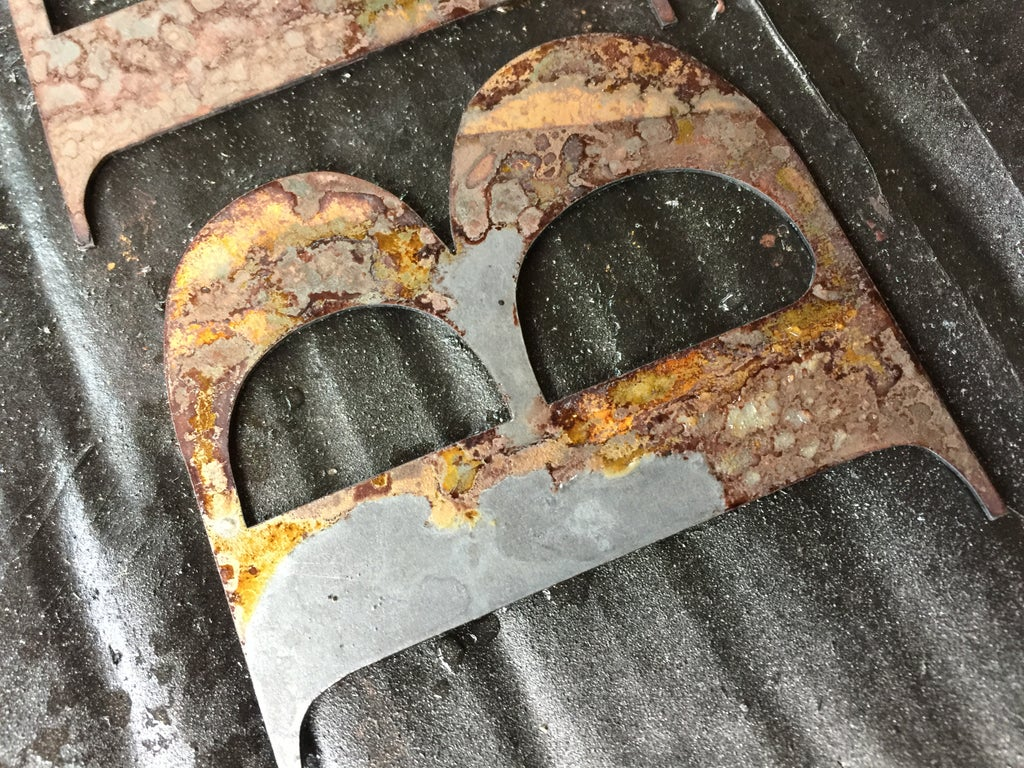rust: (536, 337, 987, 533)
